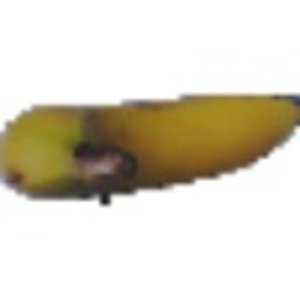banana: (5, 93, 293, 198)
